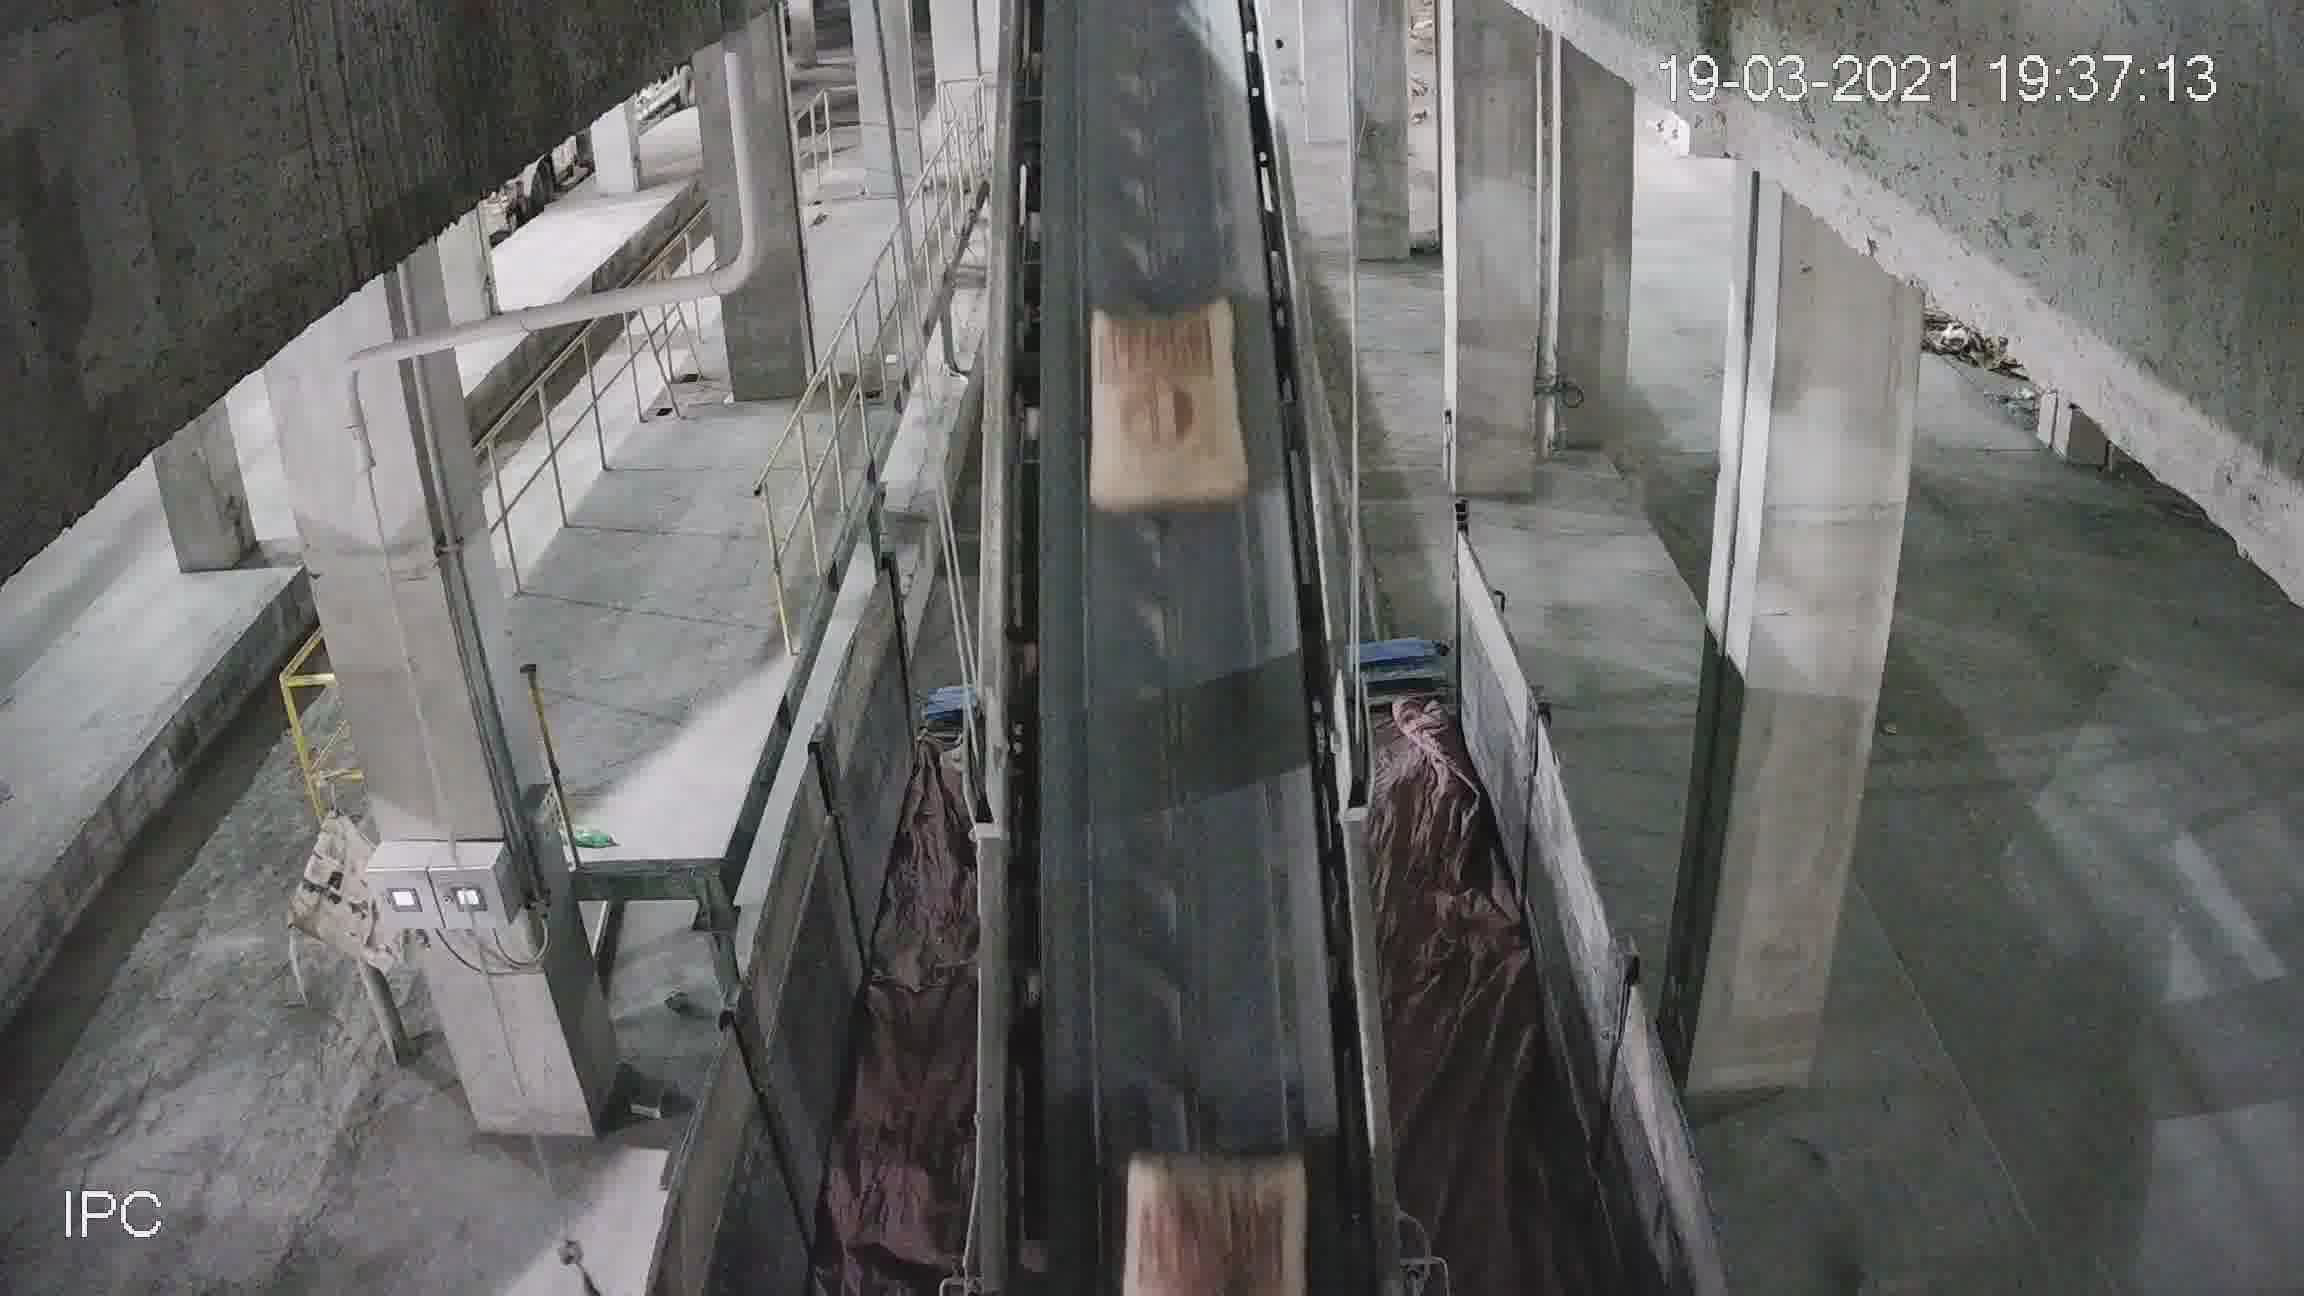bag: (1089, 297, 1244, 510), (1125, 1150, 1318, 1204)
belt: (995, 138, 1345, 1188)
